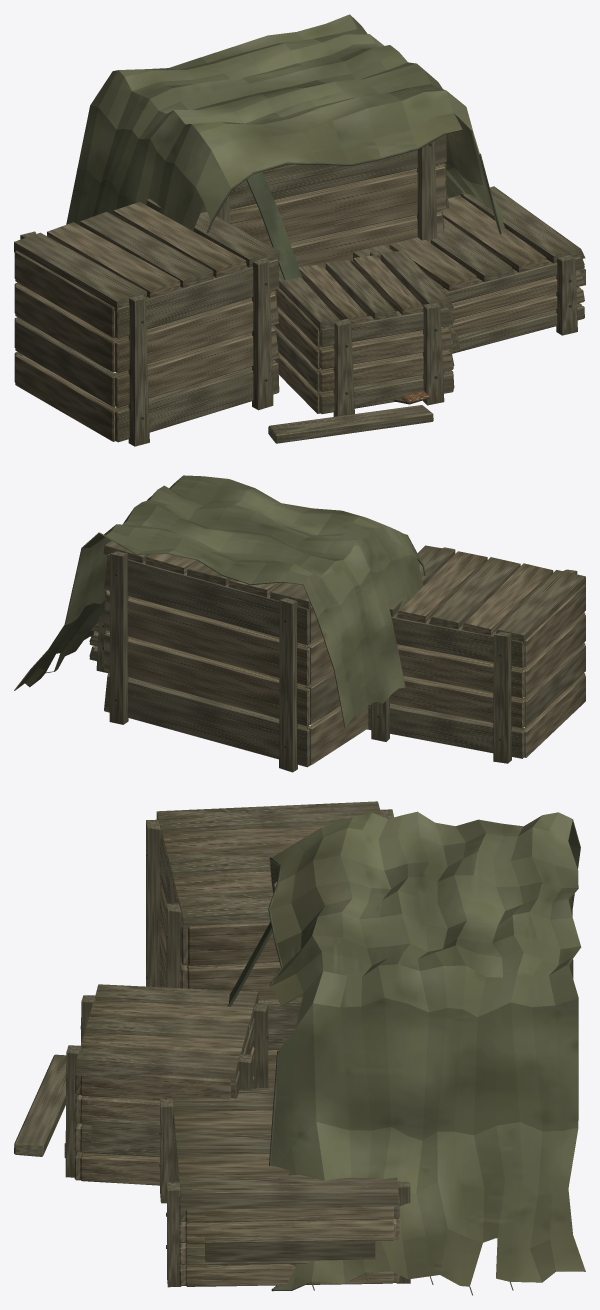
File: nb_tarp_crates.glb
The picture shows the model from 3 angles, top to bottom: view 1: azimuth 30°, elevation 25°; view 2: azimuth 150°, elevation 25°; view 3: azimuth 270°, elevation 25°; orthographic projection. The views are drawn at different scales.
Visible parts, largest first — view 1: Abandoned_Tarp_Covered_Supply_Crates_Body; view 2: Abandoned_Tarp_Covered_Supply_Crates_Body; view 3: Abandoned_Tarp_Covered_Supply_Crates_Body.
Part boxes in pixels (x1,y1,x2,y2): Abandoned_Tarp_Covered_Supply_Crates_Body: (14,14,585,446); Abandoned_Tarp_Covered_Supply_Crates_Body: (14,475,585,772); Abandoned_Tarp_Covered_Supply_Crates_Body: (14,801,585,1295).
Bounding box in the file's own units: 1.58 × 0.6664 × 1.21.
1 material, 1 textured.
